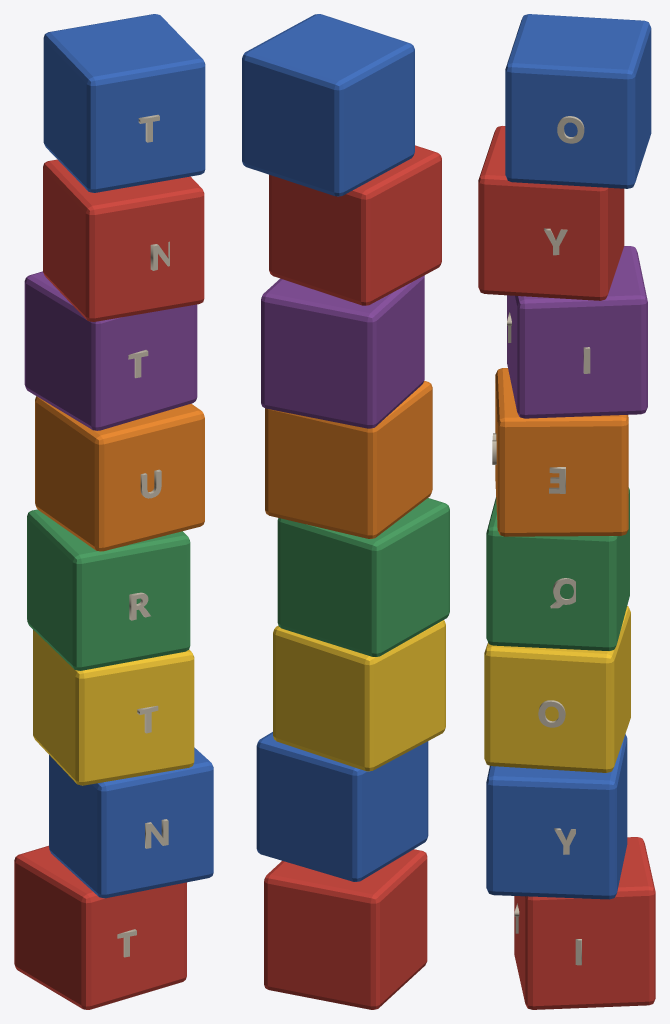
File: toy_block_tower.fbx
3 renders of one model, left to right at view 1: azimuth 30°, elevation 25°; view 2: azimuth 150°, elevation 25°; view 3: azimuth 270°, elevation 25°, orthographic. The views are drawn at different scales.
Parts seen in each view (by area): view 1: blue_1, red_1, orange_1, green_1, purple_1, yellow_1, cream_1; view 2: blue_1, red_1, green_1, purple_1, yellow_1, orange_1; view 3: blue_1, red_1, purple_1, yellow_1, orange_1, green_1, cream_1.
Boxes of the visible parts, bbox=[...] form: blue_1: bbox=[43, 14, 213, 898]; red_1: bbox=[14, 159, 204, 1009]; orange_1: bbox=[35, 396, 204, 551]; green_1: bbox=[27, 509, 190, 670]; purple_1: bbox=[24, 271, 197, 430]; yellow_1: bbox=[33, 630, 194, 785]; cream_1: bbox=[117, 114, 169, 957]; blue_1: bbox=[242, 14, 428, 881]; red_1: bbox=[264, 145, 441, 1009]; green_1: bbox=[277, 498, 449, 656]; purple_1: bbox=[261, 275, 424, 428]; yellow_1: bbox=[273, 620, 445, 771]; orange_1: bbox=[265, 381, 432, 538]; blue_1: bbox=[486, 14, 651, 899]; red_1: bbox=[478, 126, 655, 1009]; purple_1: bbox=[507, 246, 647, 418]; yellow_1: bbox=[484, 606, 630, 772]; orange_1: bbox=[495, 368, 628, 536]; green_1: bbox=[486, 487, 629, 650]; cream_1: bbox=[492, 116, 590, 965].
Bounding box in the file's own units: 0.2242 × 1.34 × 0.2274.
